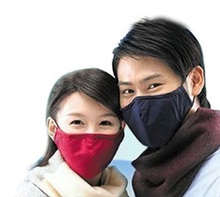face_mask: (117, 51, 189, 147), (54, 94, 120, 169)
